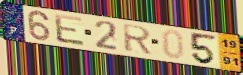0: (160, 28, 186, 61)
2: (94, 20, 119, 51)
5: (188, 31, 218, 65)
6: (26, 10, 52, 42)
E: (52, 12, 87, 48)
R: (121, 23, 154, 56)
